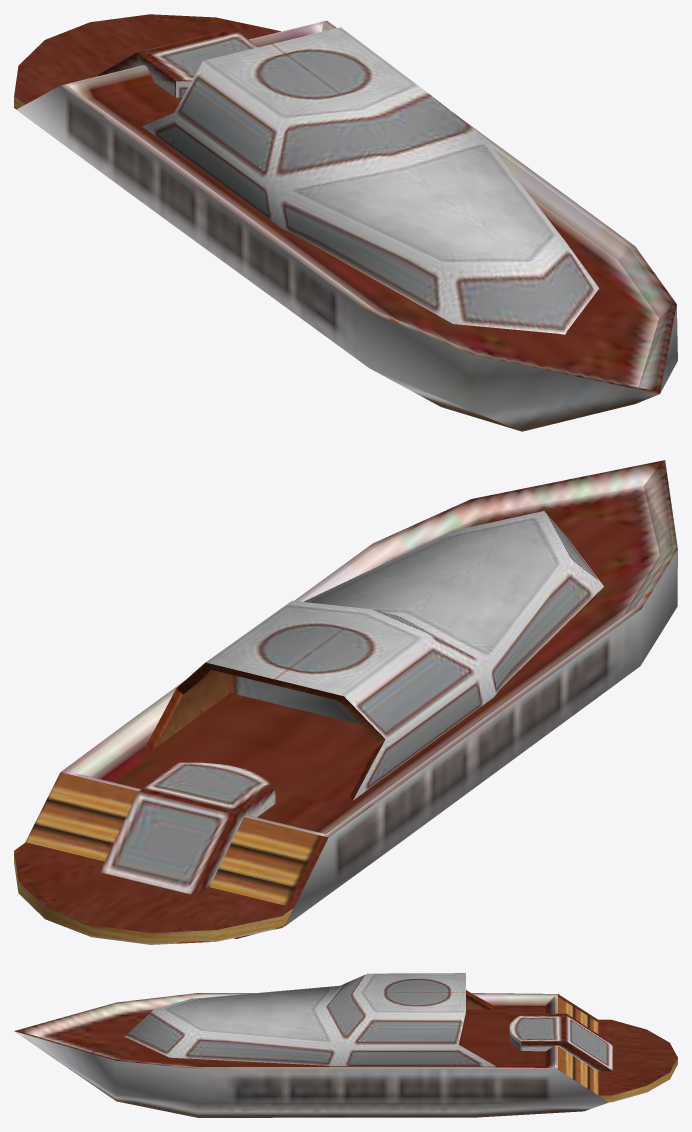
3 views of the same model, one above another, from view 1: azimuth 30°, elevation 25°; view 2: azimuth 150°, elevation 25°; view 3: azimuth 270°, elevation 25° (orthographic). The views are drawn at different scales.
Parts seen in each view (by area): view 1: 633d2abe0d3b63a338157084; view 2: 633d2abe0d3b63a338157084; view 3: 633d2abe0d3b63a338157084.
Part boxes in pixels (box(x1,y1,x2,y2)): 633d2abe0d3b63a338157084: box(14, 14, 677, 431); 633d2abe0d3b63a338157084: box(14, 460, 677, 944); 633d2abe0d3b63a338157084: box(14, 973, 677, 1117).
Bounding box in the file's own units: 8.25 × 5.28 × 30.35.
1 material, 1 textured.
